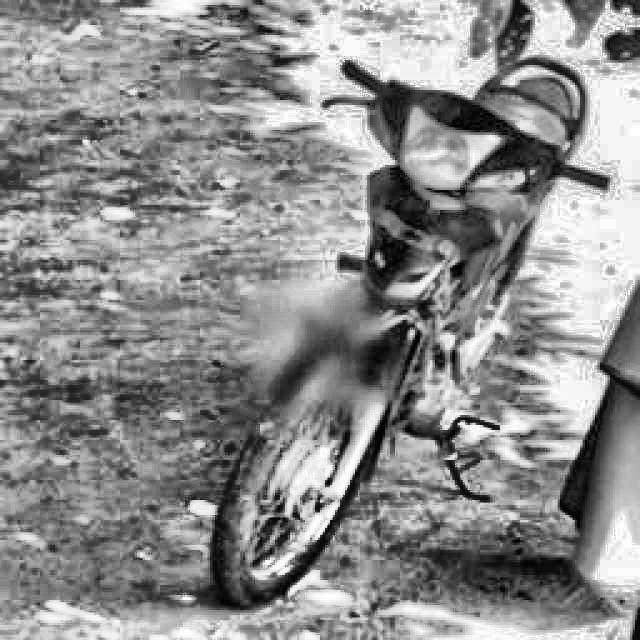motorcycle: (175, 50, 600, 604)
